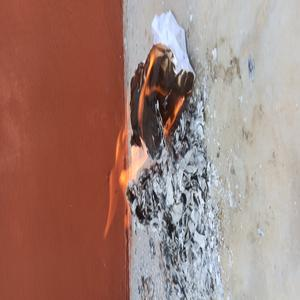fire: (99, 120, 132, 233), (136, 42, 157, 130)
